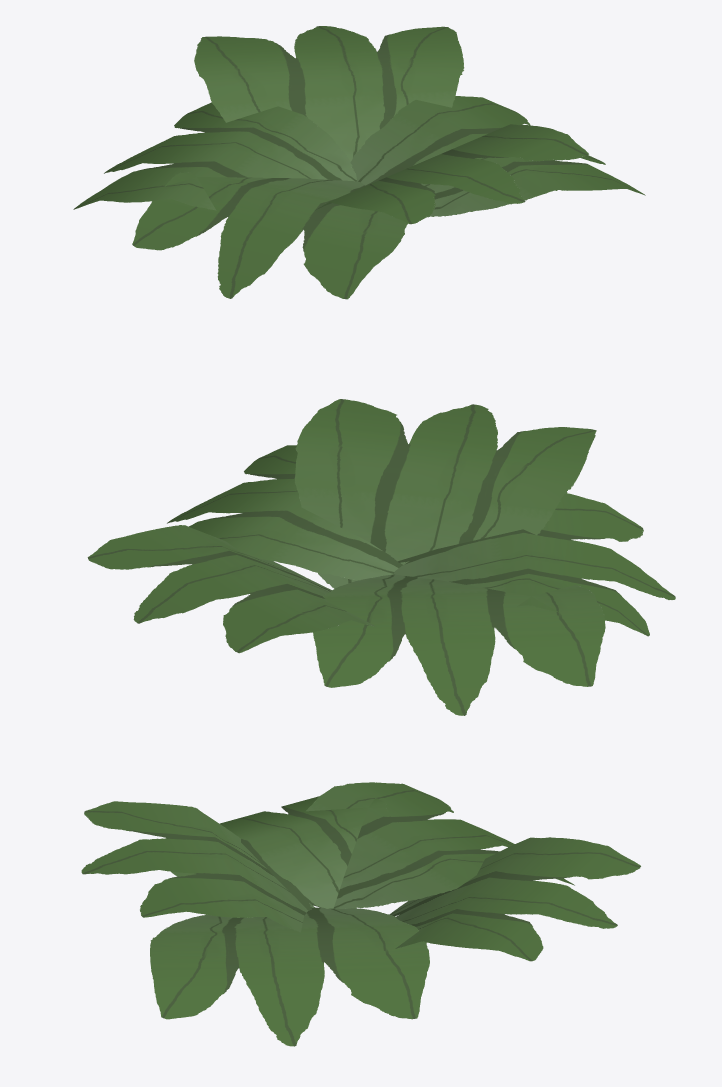
Rendered from leaf02.fbx.
3 renders of one model, top to bottom at view 1: azimuth 30°, elevation 25°; view 2: azimuth 150°, elevation 25°; view 3: azimuth 270°, elevation 25°, orthographic. The views are drawn at different scales.
Parts seen in each view (by area): view 1: plant10; view 2: plant10; view 3: plant10.
Boxes of the visible parts, x1,y1,x2,y2 form: plant10: (73,26,645,299); plant10: (87,399,675,715); plant10: (81,782,640,1046).
Size of the model in its own units: 4.3 by 0.8084 by 4.61.
Materials: 1 (1 with a texture image).
